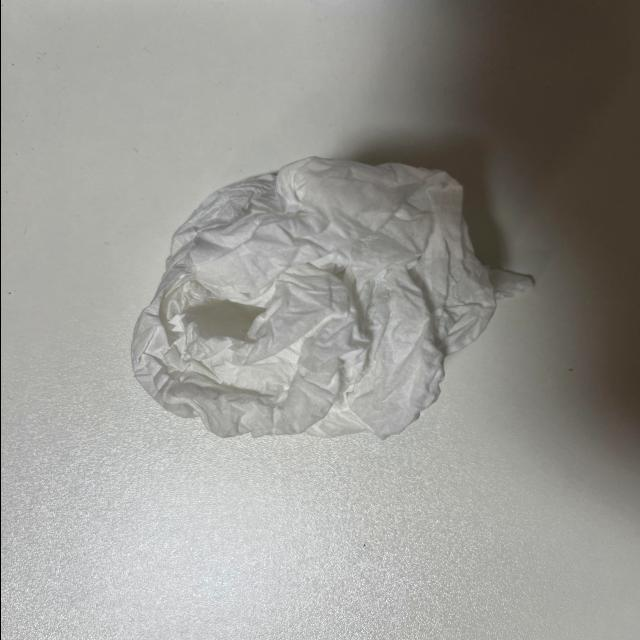Paper: (114, 142, 566, 468)
